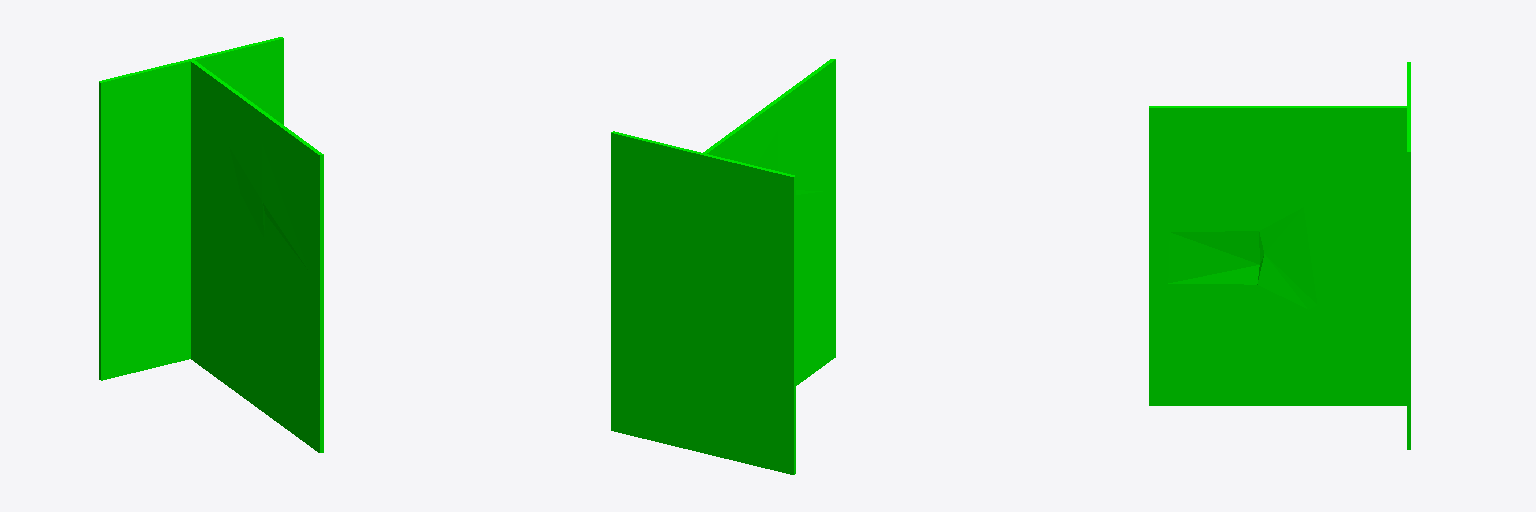
File: system_box.obj
The picture shows the model from 3 angles: view 1: azimuth 30°, elevation 25°; view 2: azimuth 150°, elevation 25°; view 3: azimuth 270°, elevation 25°; orthographic projection.
Visible parts, largest first — view 1: plate; view 2: plate; view 3: plate.
Boxes of the visible parts, <box> form: plate: <box>99,37,323,452</box>; plate: <box>611,59,835,474</box>; plate: <box>1149,62,1410,449</box>.
Size of the model in its own units: 900 by 1400 by 1120.